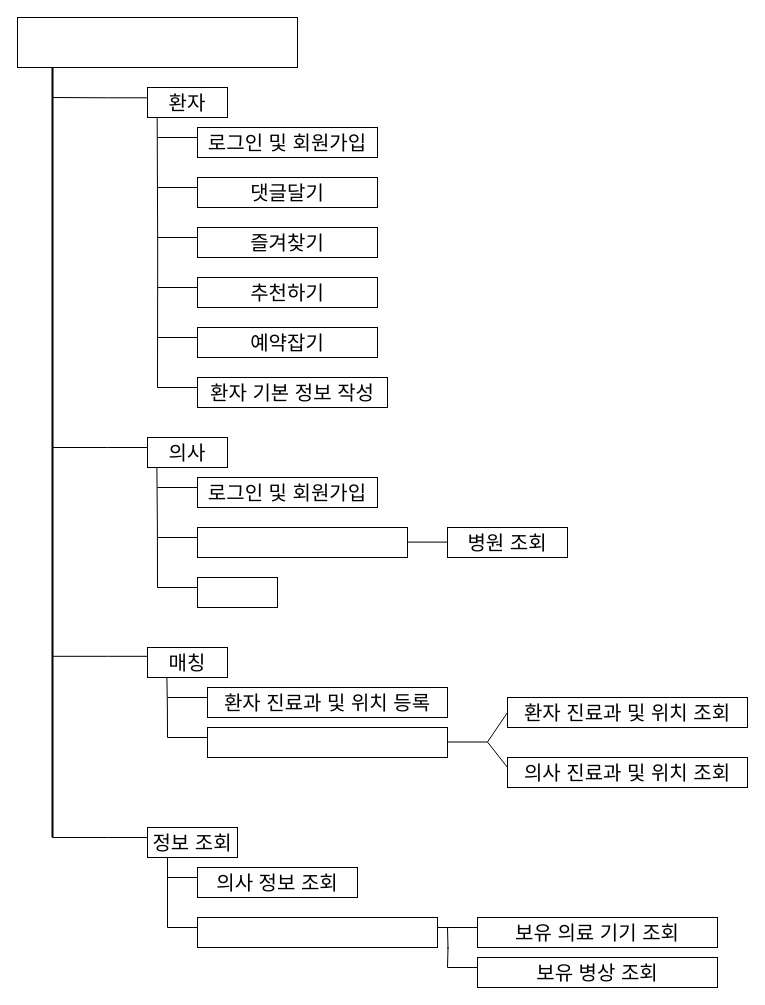
Image size: 765x1005. Some labels were removed from this diagram. Here are the shapes that lost their labels. From the top down, the box of each, then its label:
(16, 16, 298, 68): 의사 매칭 시스템
(196, 526, 408, 558): 의사 기본정보 작성
(196, 576, 278, 608): 등록
(206, 726, 448, 758): 의사 환자 공통정보 매칭
(196, 916, 438, 948): 의사 소속 병원 정보 조회
